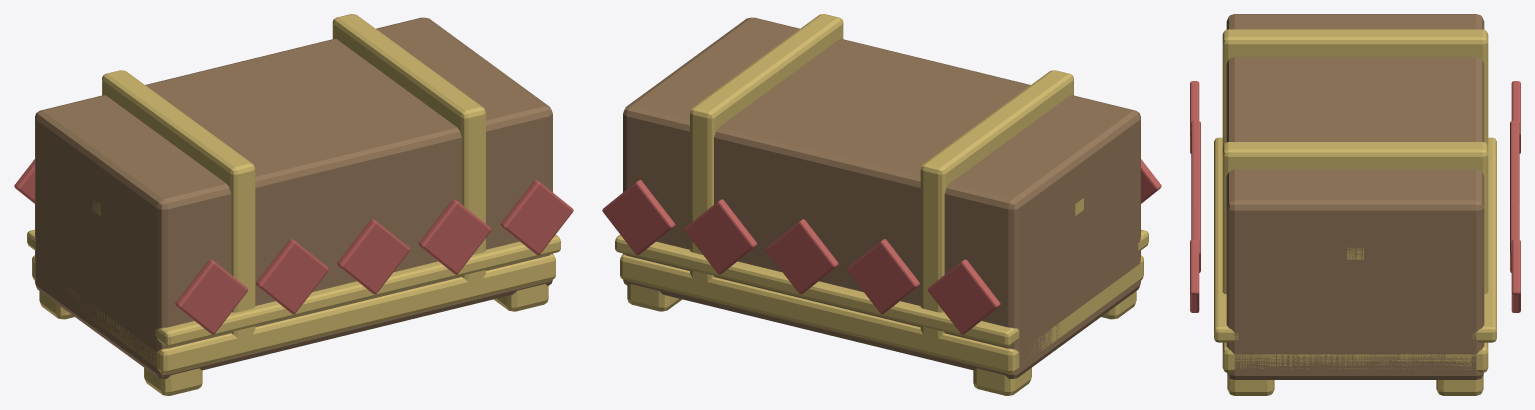
The model's file is reliquary_casket.glb.
The picture shows the model from 3 angles, left to right: view 1: azimuth 30°, elevation 25°; view 2: azimuth 150°, elevation 25°; view 3: azimuth 270°, elevation 25°; orthographic projection.
Visible parts, largest first — view 1: 215-reliquary-casket/0, 215-reliquary-casket/1, 215-reliquary-casket/2, 215-reliquary-casket/lid-casket/brass; view 2: 215-reliquary-casket/0, 215-reliquary-casket/1, 215-reliquary-casket/2, 215-reliquary-casket/lid-casket/brass; view 3: 215-reliquary-casket/0, 215-reliquary-casket/1, 215-reliquary-casket/2, 215-reliquary-casket/lid-casket/brass.
Part boxes in pixels (x1=…): 215-reliquary-casket/0: x1=35, y1=17, x2=552, y2=378; 215-reliquary-casket/1: x1=32, y1=14, x2=555, y2=395; 215-reliquary-casket/2: x1=14, y1=159, x2=573, y2=334; 215-reliquary-casket/lid-casket/brass: x1=27, y1=199, x2=560, y2=346; 215-reliquary-casket/0: x1=623, y1=17, x2=1140, y2=379; 215-reliquary-casket/1: x1=620, y1=14, x2=1143, y2=395; 215-reliquary-casket/2: x1=602, y1=159, x2=1161, y2=334; 215-reliquary-casket/lid-casket/brass: x1=615, y1=198, x2=1148, y2=346; 215-reliquary-casket/0: x1=1226, y1=14, x2=1484, y2=379; 215-reliquary-casket/1: x1=1222, y1=29, x2=1488, y2=395; 215-reliquary-casket/2: x1=1190, y1=81, x2=1520, y2=312; 215-reliquary-casket/lid-casket/brass: x1=1214, y1=137, x2=1496, y2=342.
Size of the model in its own units: 2 by 1.04 by 1.45.
